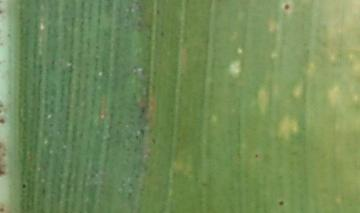tarspot: (282, 1, 293, 13), (276, 197, 286, 208), (254, 151, 263, 161), (20, 180, 29, 190)
